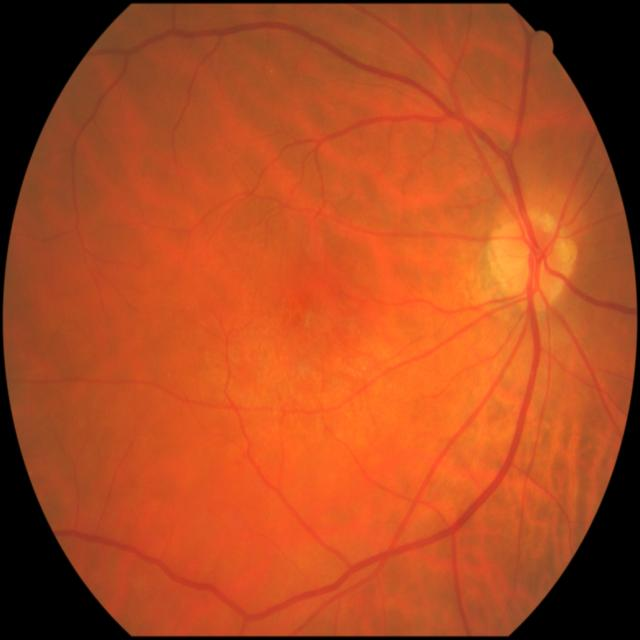OD: (489, 212, 577, 312)
